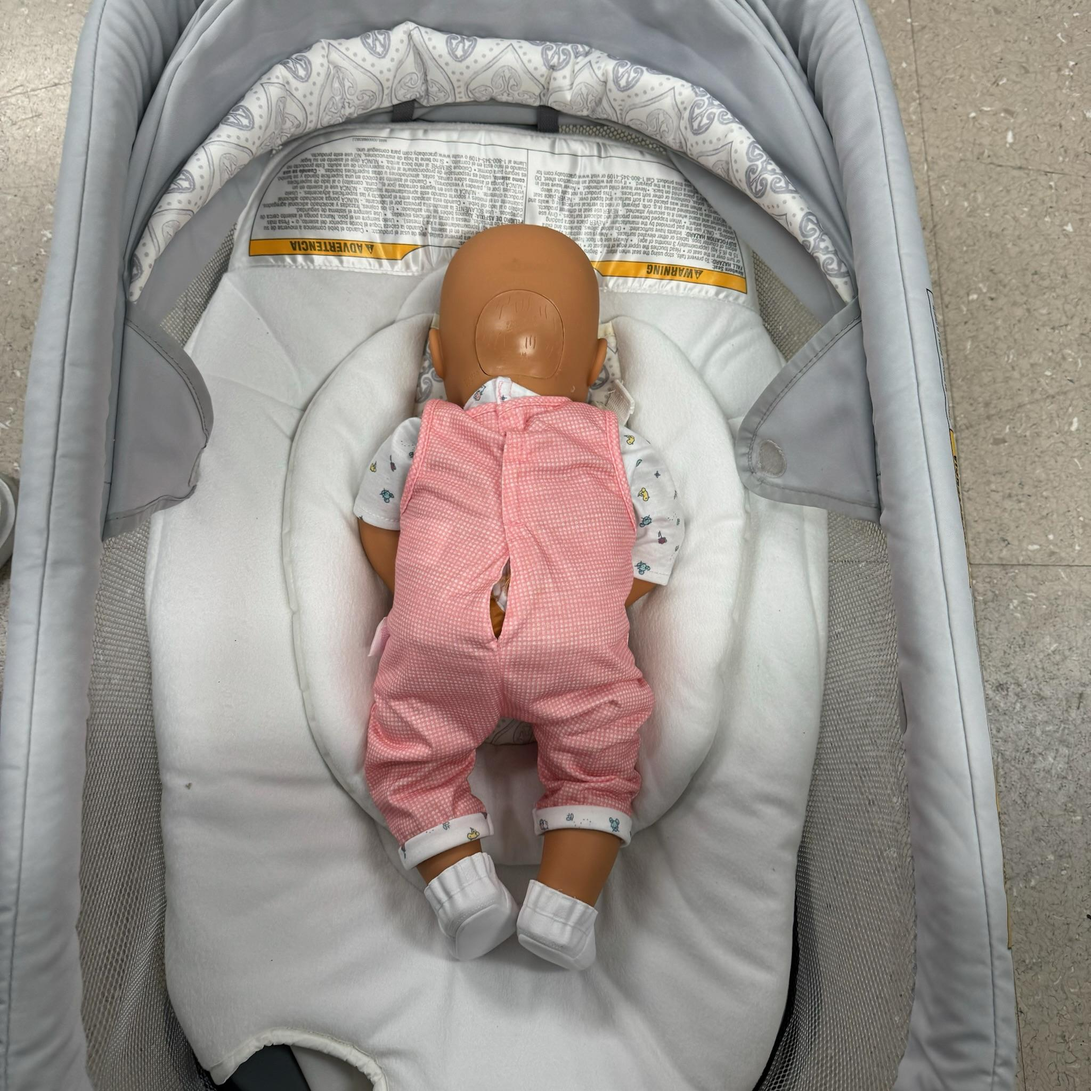baby: (339, 207, 701, 967)
